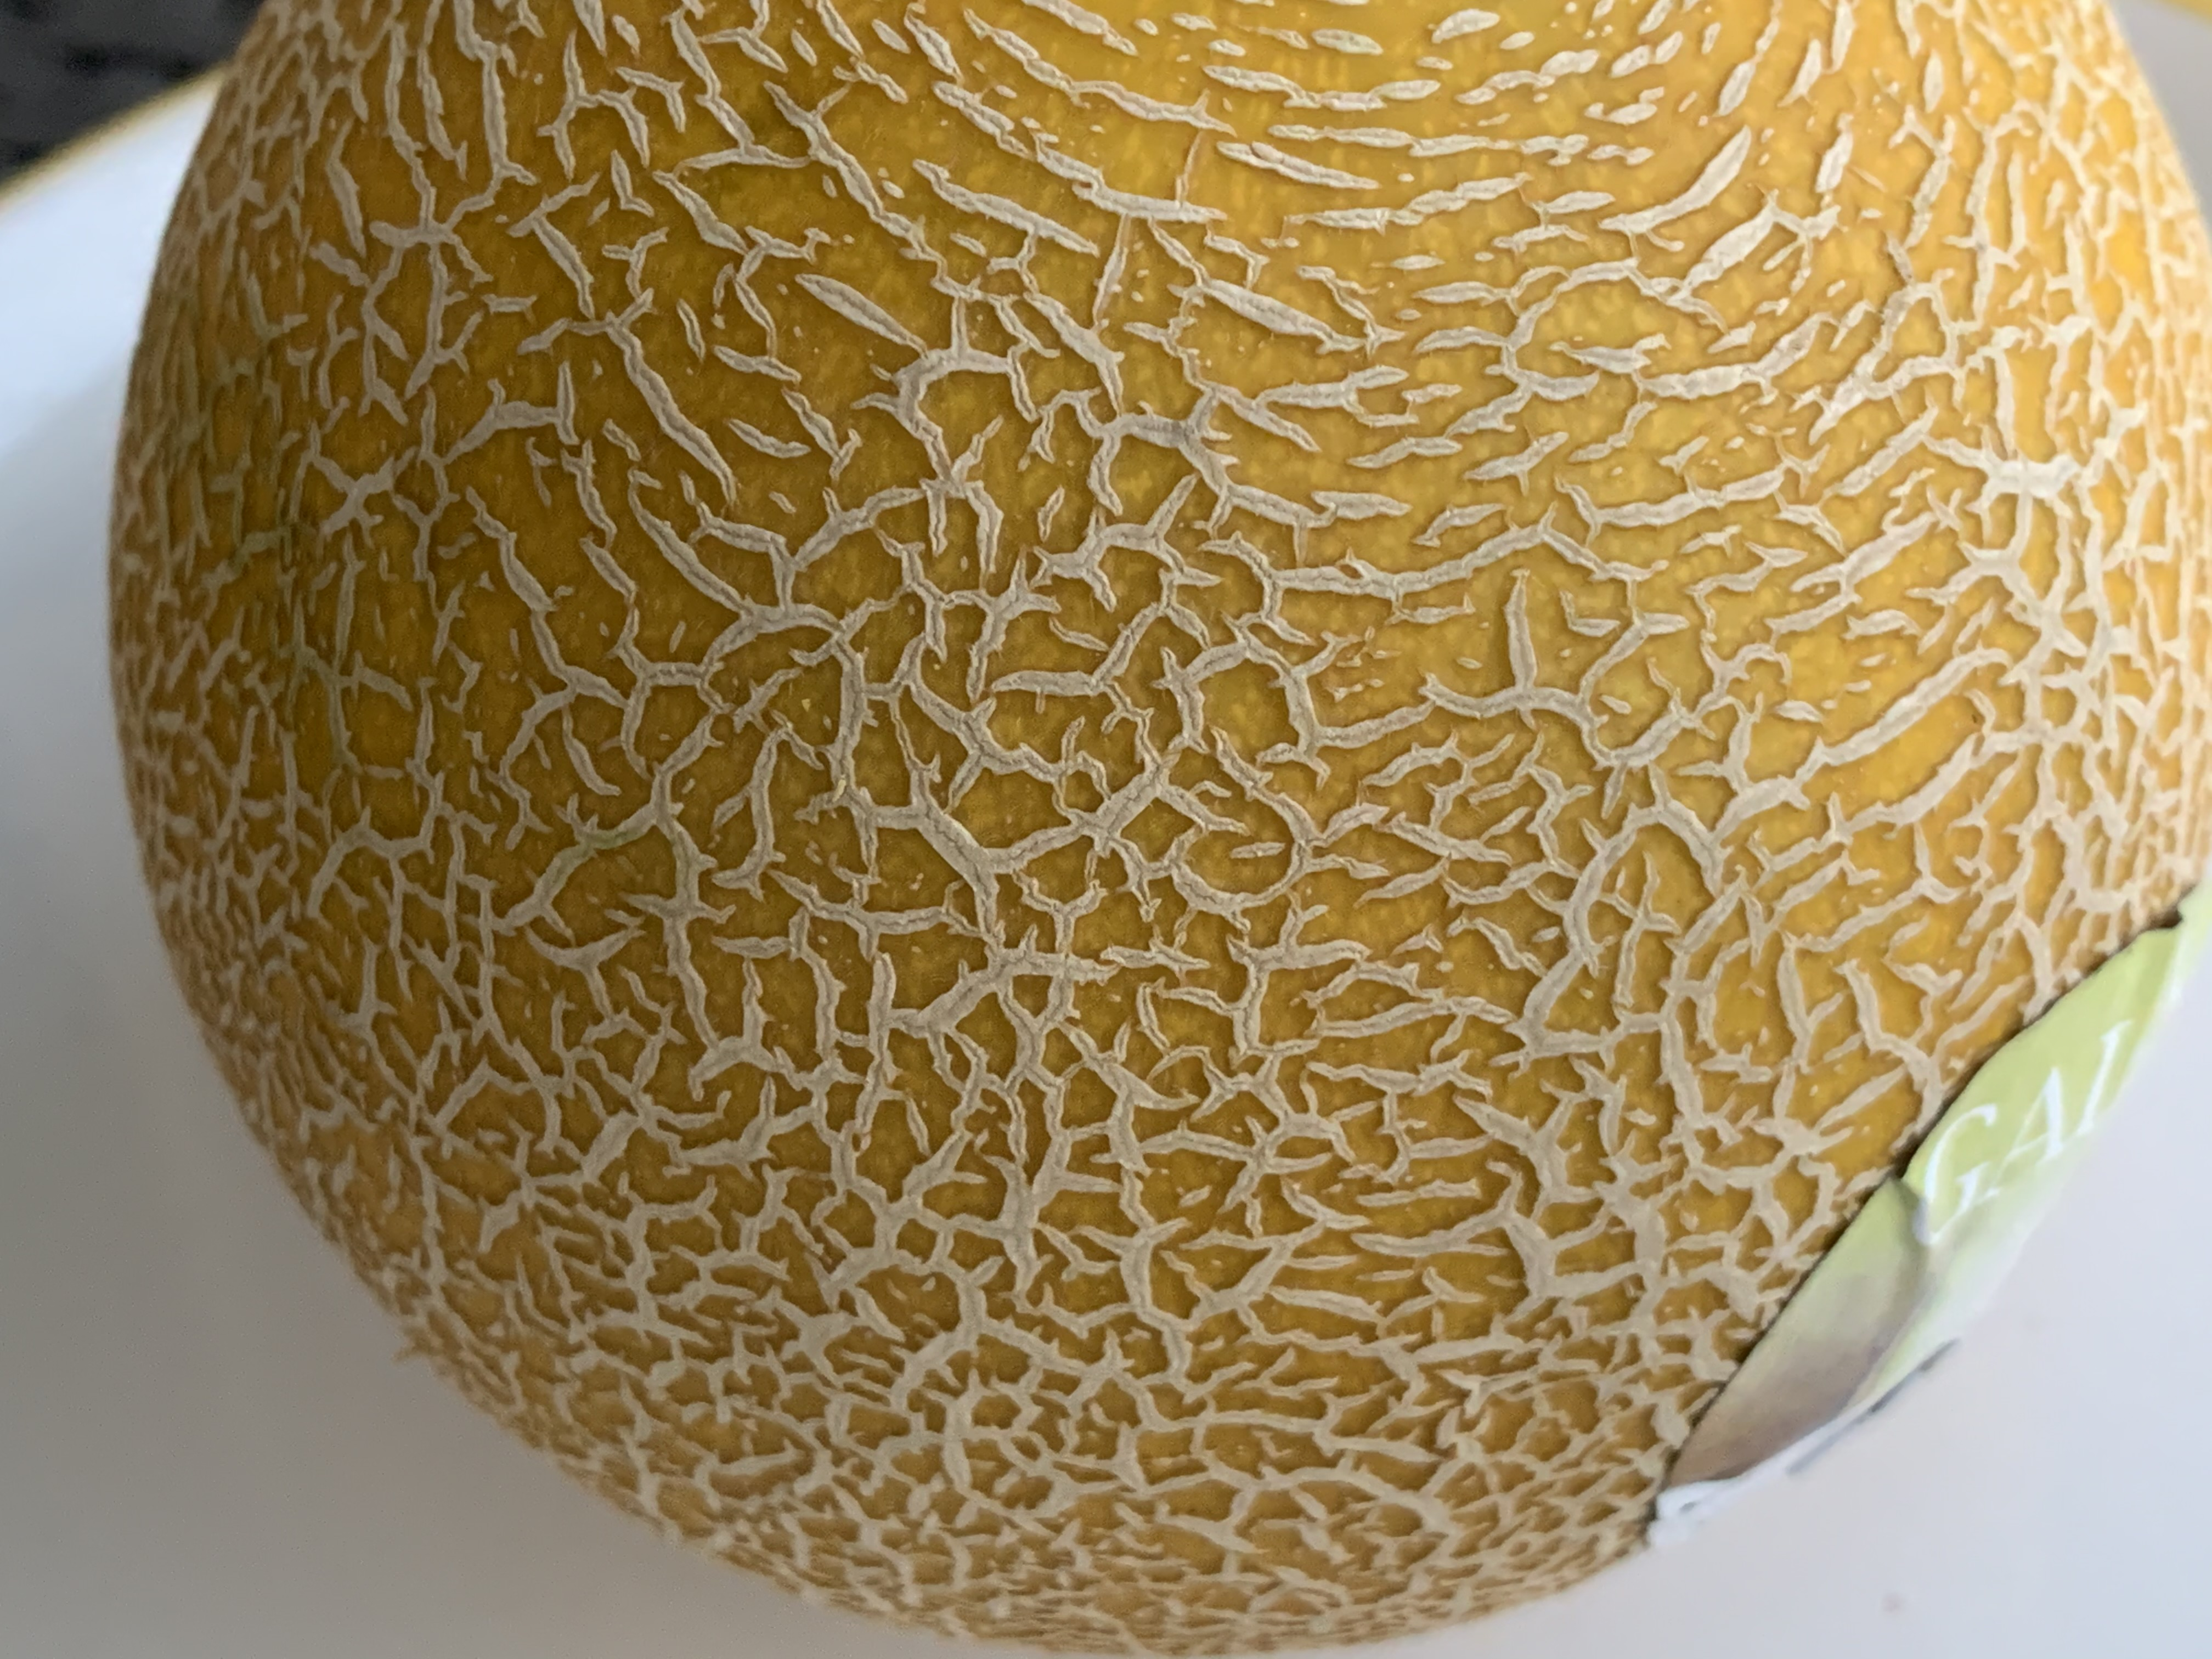galia melon: (16, 14, 2202, 1659)
